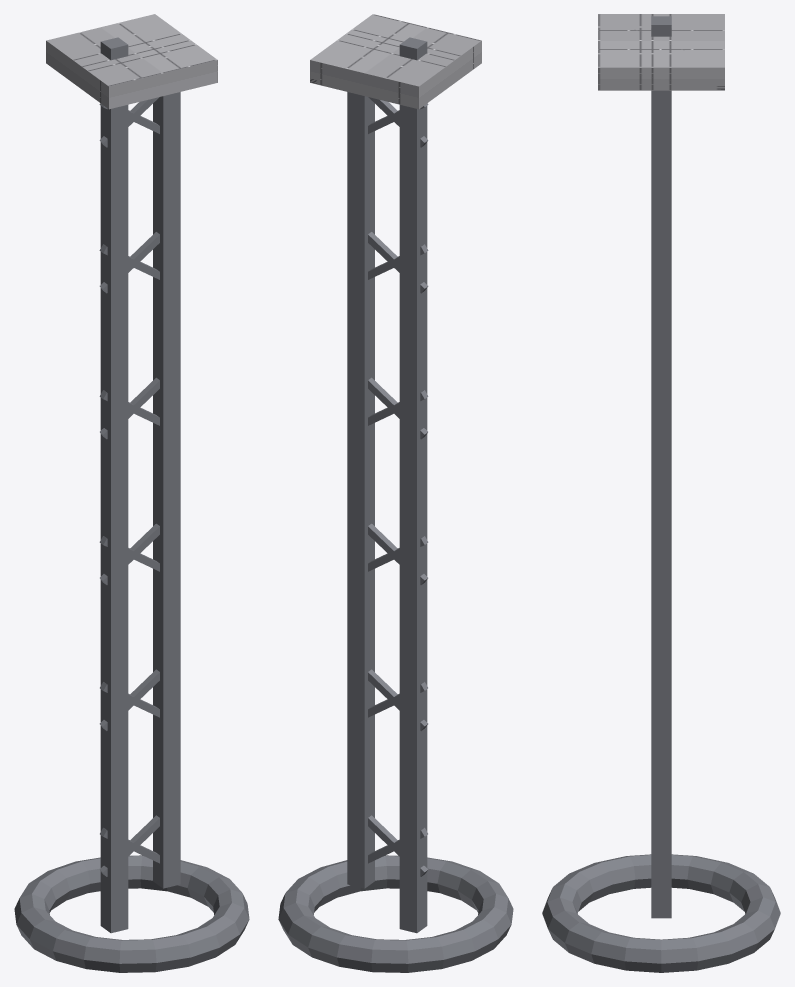
Rendered from station_docking_arm.glb.
3 views of the same model, side by side, from view 1: azimuth 30°, elevation 25°; view 2: azimuth 150°, elevation 25°; view 3: azimuth 270°, elevation 25° (orthographic).
Parts seen in each view (by area): view 1: Merged_StationDark, Merged_StationHull; view 2: Merged_StationDark, Merged_StationHull; view 3: Merged_StationDark, Merged_StationHull.
Part boxes in pixels (x1=…): Merged_StationDark: x1=14, y1=37, x2=249, y2=972; Merged_StationHull: x1=46, y1=14, x2=217, y2=109; Merged_StationDark: x1=278, y1=37, x2=513, y2=972; Merged_StationHull: x1=310, y1=14, x2=481, y2=109; Merged_StationDark: x1=542, y1=16, x2=780, y2=972; Merged_StationHull: x1=598, y1=14, x2=724, y2=90.
Bounding box in the file's own units: 4.7 × 19.55 × 4.7.
3 materials, 1 textured.
